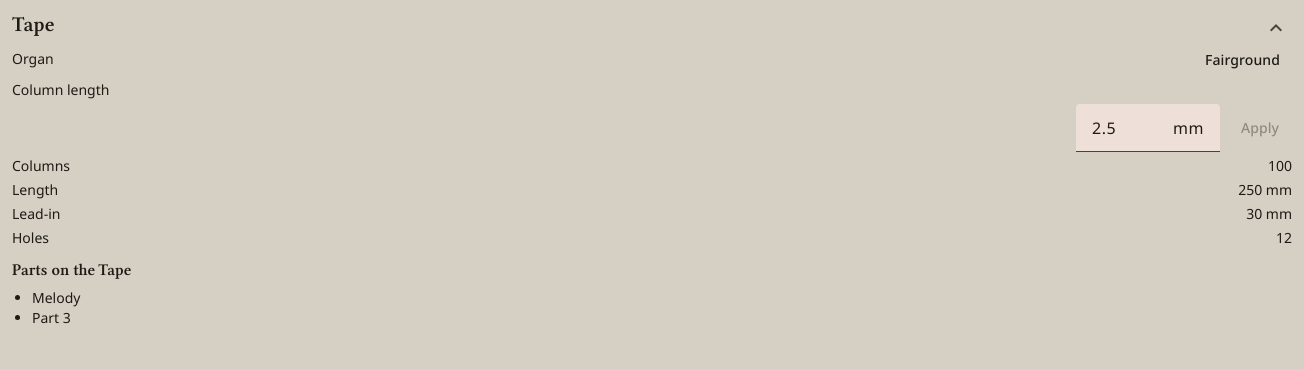
TapeSectionComponent › changing the Column length (T006) › puts the current Column length back when Escape is pressed
The image size is (1304, 369).
Replace the text in the field with test id "column-length-input" with "7" at (1133, 128), box [1092,116,1173,140]
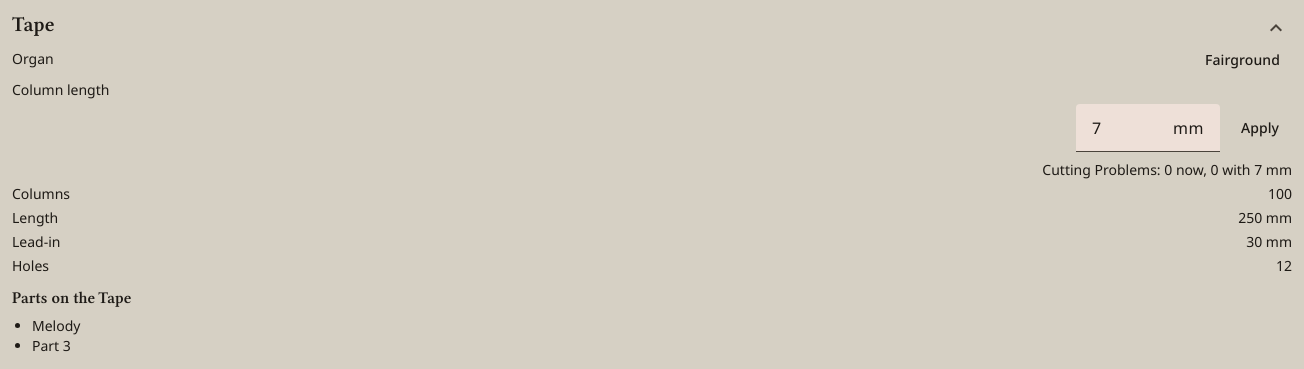
Press Escape in the field with test id "column-length-input", box [1092,116,1173,140]
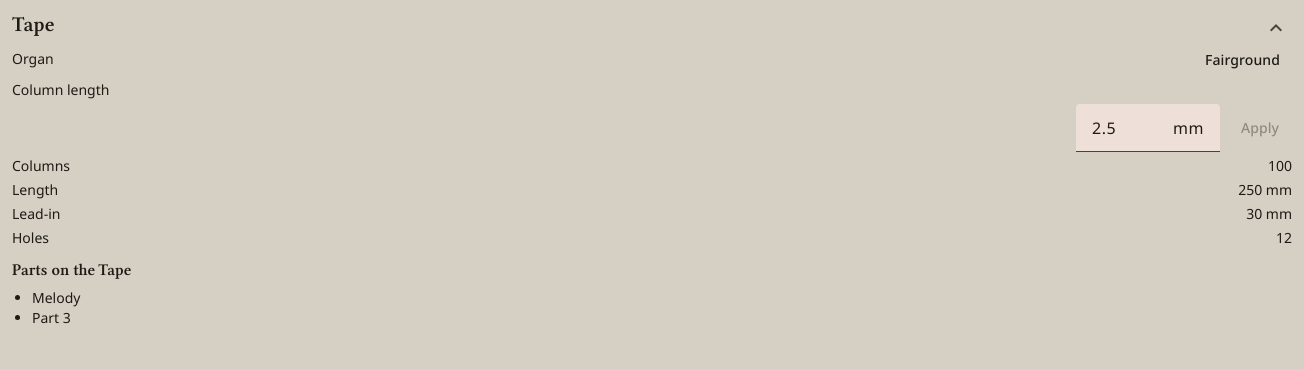
Now the field with test id "column-length-input" holds "2.5", box [1092,116,1173,140]
